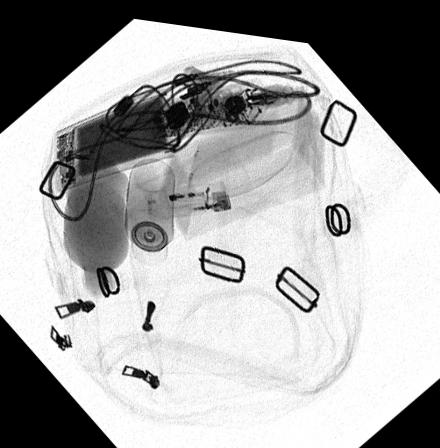Lighter: (144, 173, 231, 215)
Powerbank: (54, 79, 175, 191)
Sprayer: (123, 152, 174, 260)
